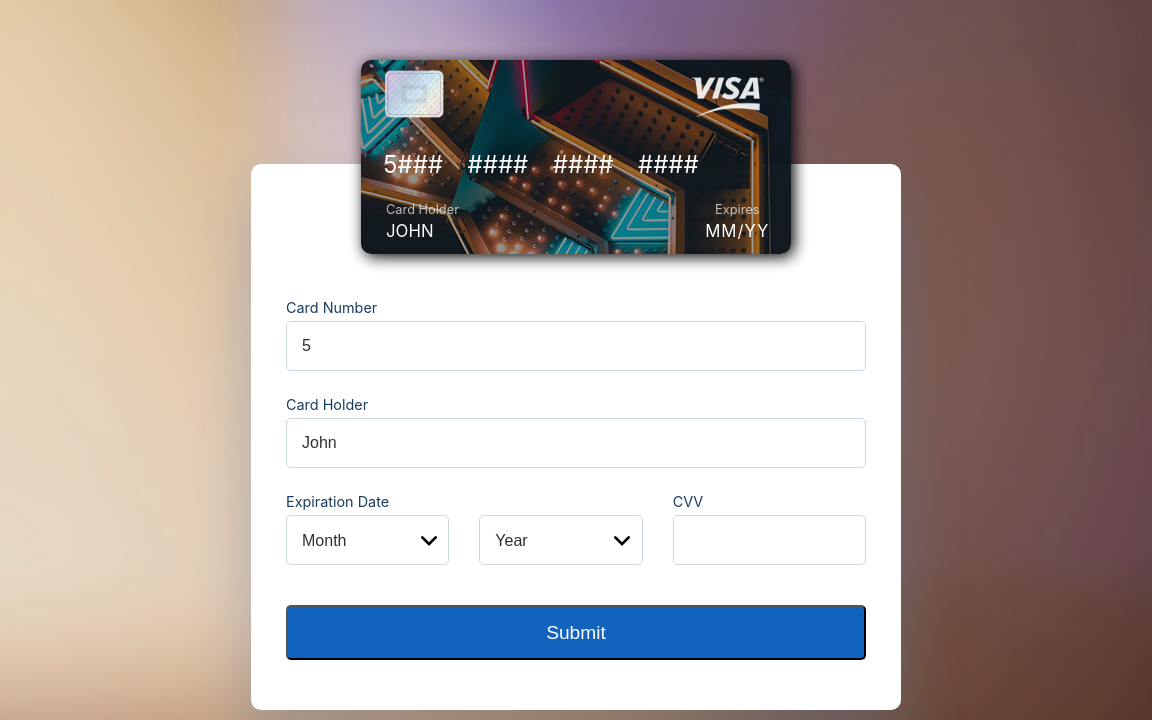
Test: On Card Component › Name display › should return back to initial display name if all letters are removed
This screenshot has width=1152, height=720.
Expected: the element with test id "nameHolder" reads "J o h n", [386,221,434,241]
Clear the field with test id "formName" at (576, 443), box [286,418,866,468]
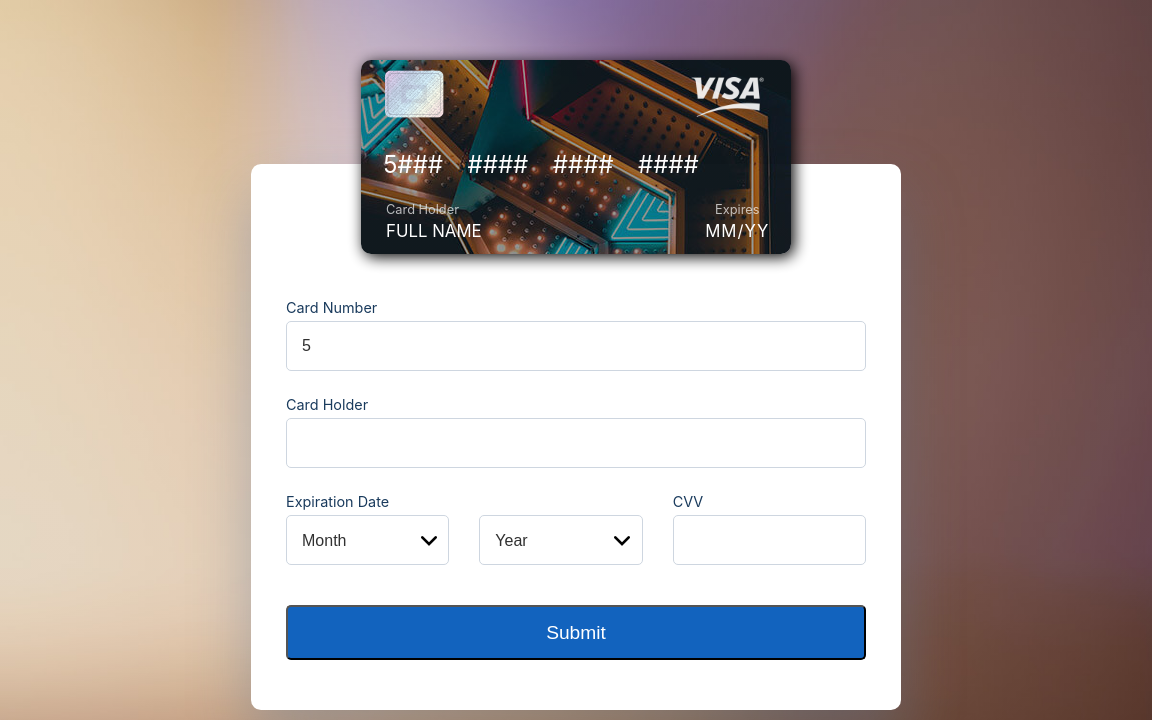
Expected: the element with test id "nameHolder" reads "F u l l N a m e", [386,221,482,241]
